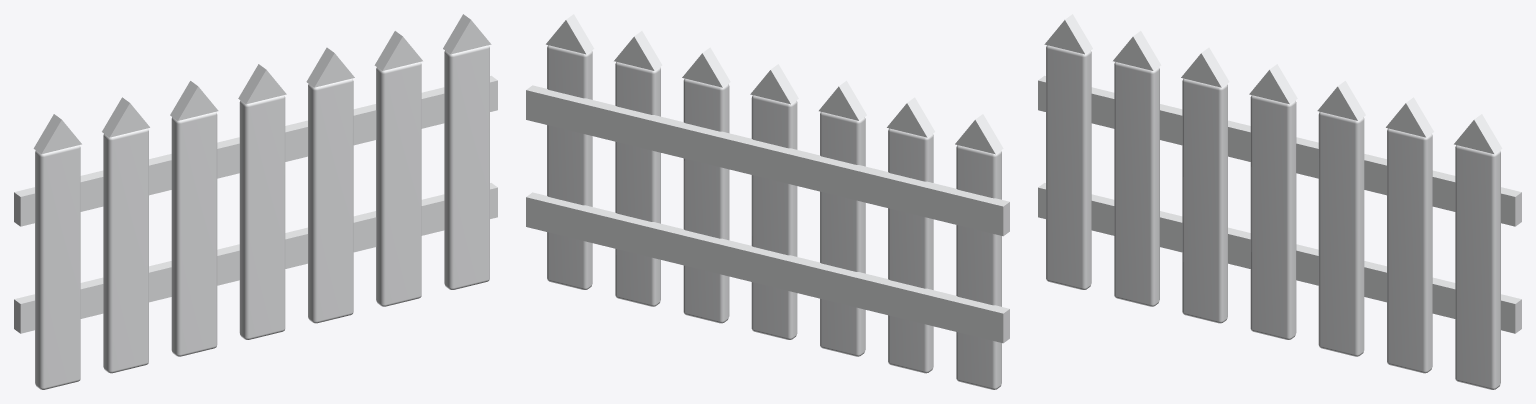
The model's file is PicketFence.fbx.
3 views of the same model, side by side, from view 1: azimuth 30°, elevation 25°; view 2: azimuth 150°, elevation 25°; view 3: azimuth 330°, elevation 25° (orthographic).
Visible parts, largest first — view 1: PicketFence; view 2: PicketFence; view 3: PicketFence.
Part boxes in pixels (x1,y1,x2,y2): PicketFence: [14, 14, 497, 389]; PicketFence: [526, 14, 1009, 389]; PicketFence: [1038, 14, 1521, 389].
Size of the model in its own units: 4.2 by 2.25 by 0.21.
Materials: 1 (1 with a texture image).
